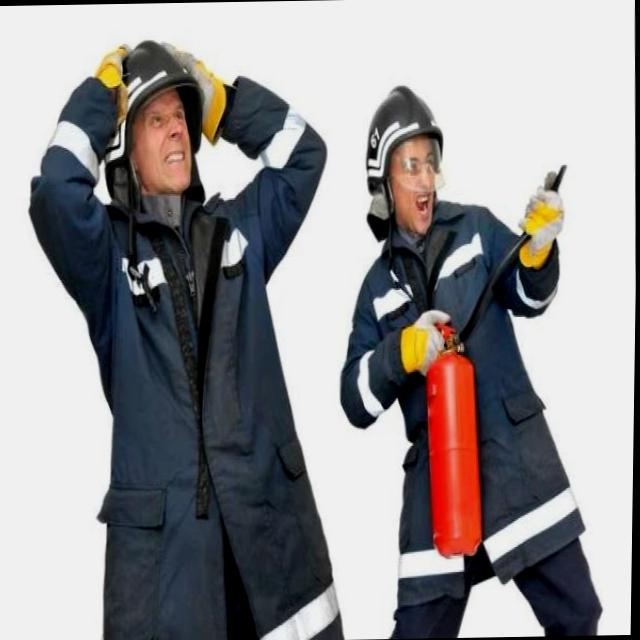FireExtinguisher: (417, 156, 578, 558)
